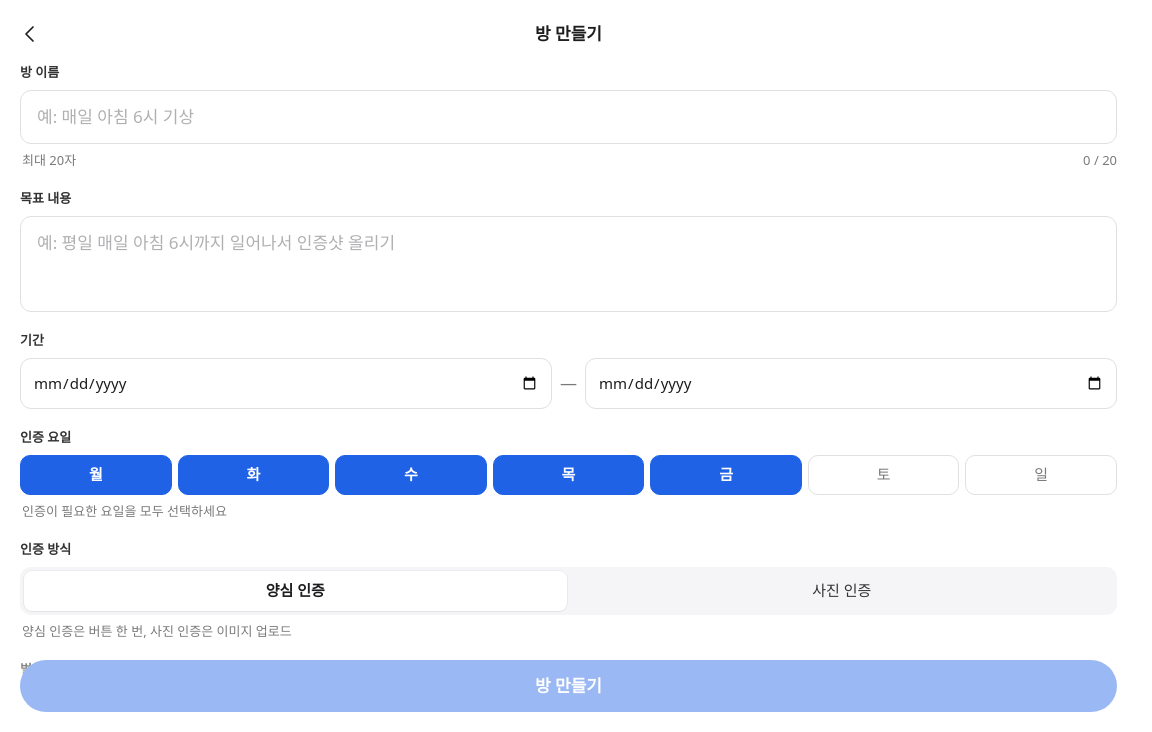
Test: RoomNewPage › 인증 방식은 기본이 양심 인증이고 사진 인증으로 바꿀 수 있다
Expected: the radio button labelled "양심 인증" is checked, [24,571,566,611]
Click the radio button labelled "사진 인증" at (842, 590), box [812,580,871,600]
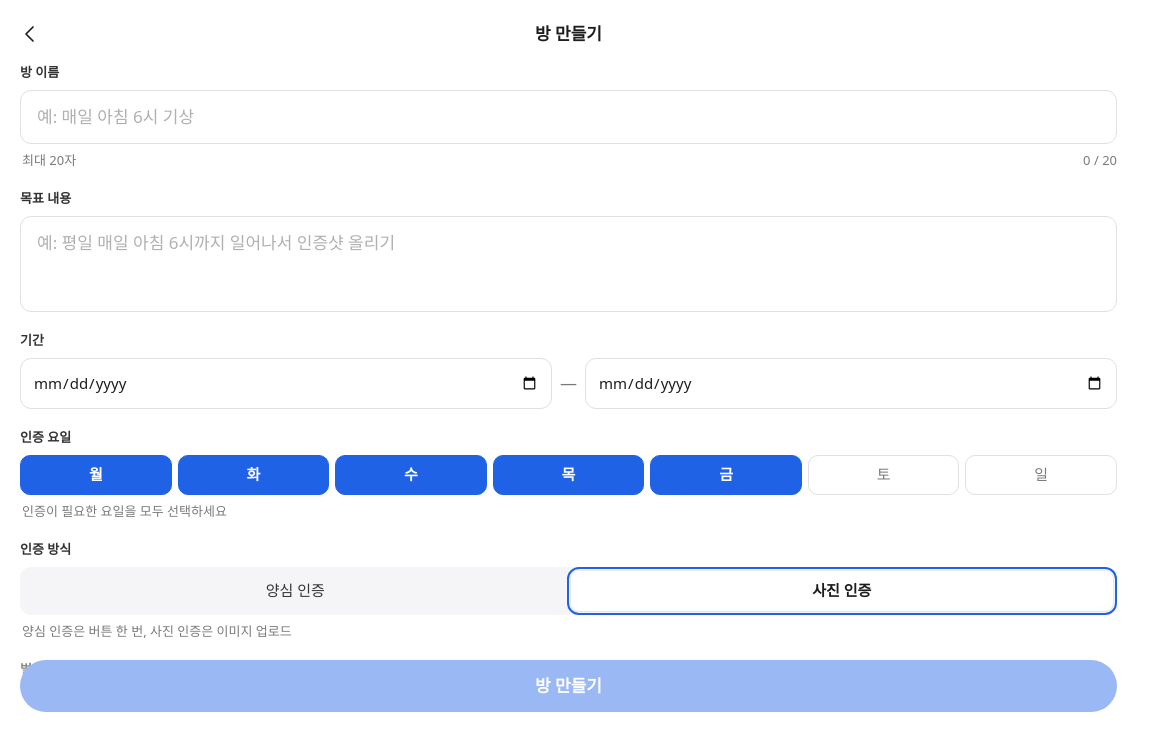
Now the radio button labelled "사진 인증" is checked, box [570,571,1113,611]
Now the radio button labelled "양심 인증" is not checked, box [266,580,325,600]
